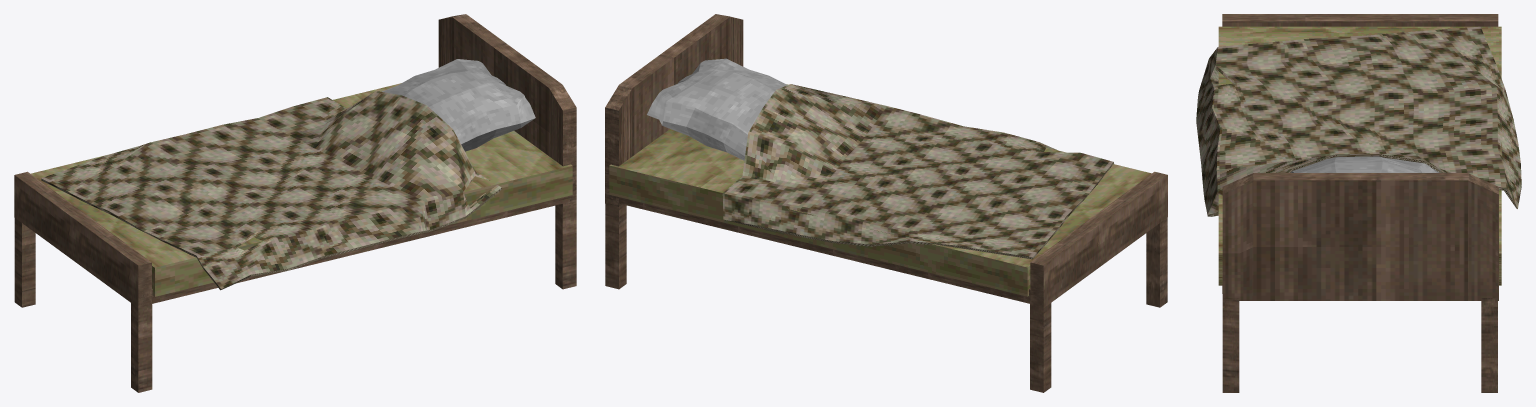
Rendered from КРОВАТЬ СОБР.fbx.
3 renders of one model, left to right at view 1: azimuth 30°, elevation 25°; view 2: azimuth 150°, elevation 25°; view 3: azimuth 270°, elevation 25°, orthographic. The views are drawn at different scales.
Parts seen in each view (by area): view 1: Cube.007; view 2: Cube.007; view 3: Cube.007.
Boxes of the visible parts, <box> form: Cube.007: <box>14,14,576,392</box>; Cube.007: <box>605,14,1167,392</box>; Cube.007: <box>1196,14,1521,392</box>.
Size of the model in its own units: 1129 by 471 by 654.
